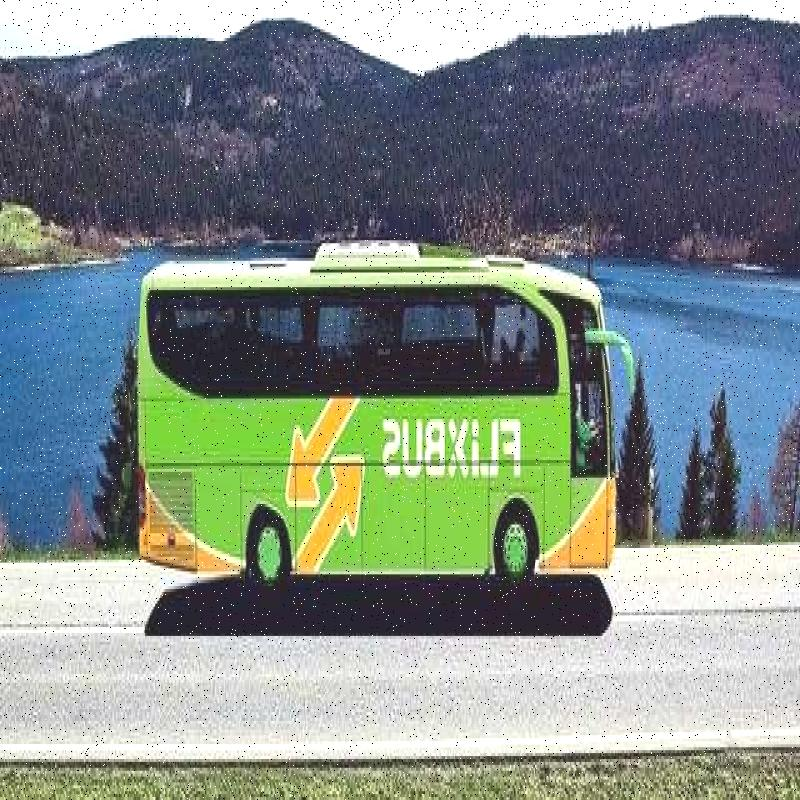bus: (113, 246, 639, 620)
